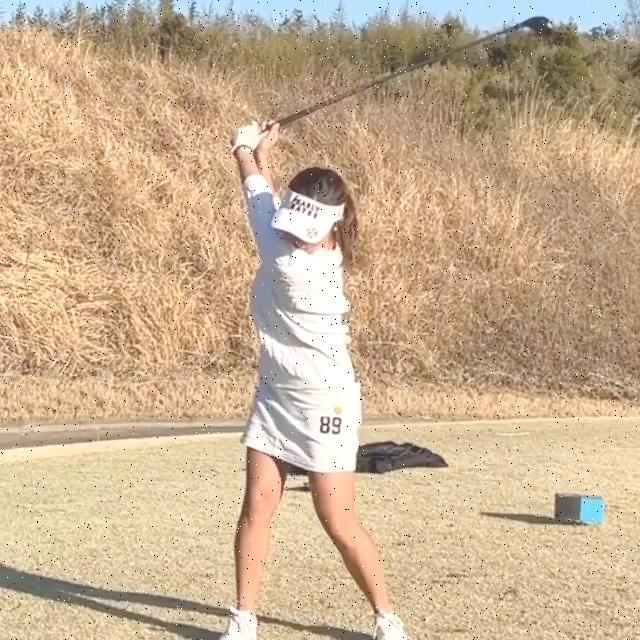golf club-handle: (275, 15, 556, 129)
golf club-head: (526, 15, 556, 35)
